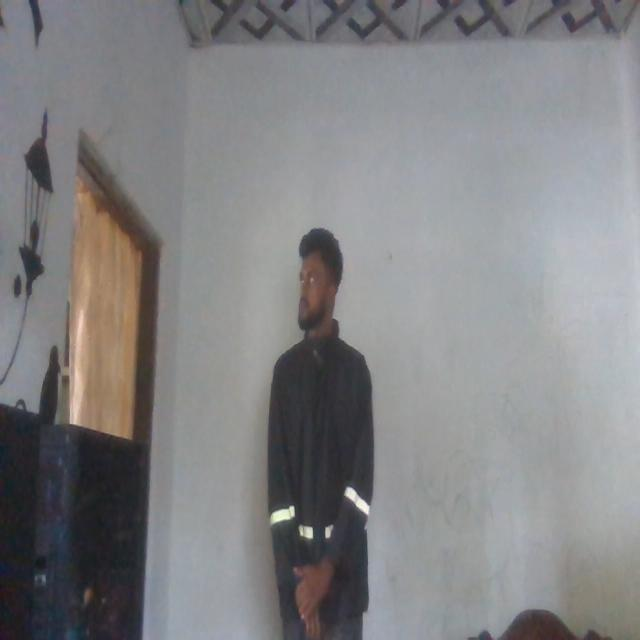Jacket_Wearer: (265, 327, 379, 618)
Person: (267, 219, 381, 640)
